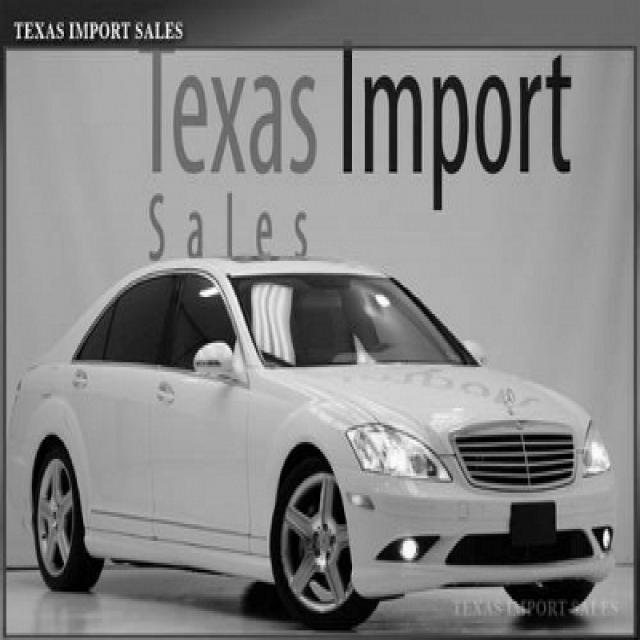car: (6, 254, 616, 630)
